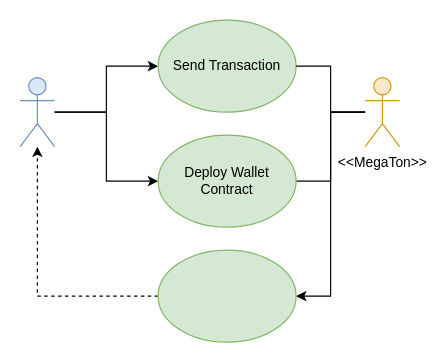
Image size: 446x362. Some labels were removed from this diagram. Here are the shapes that lost their labels. From the top down, the centre of each, then its label:
At point 37,111: "User".
At point 226,295: "Receive Transaction".
